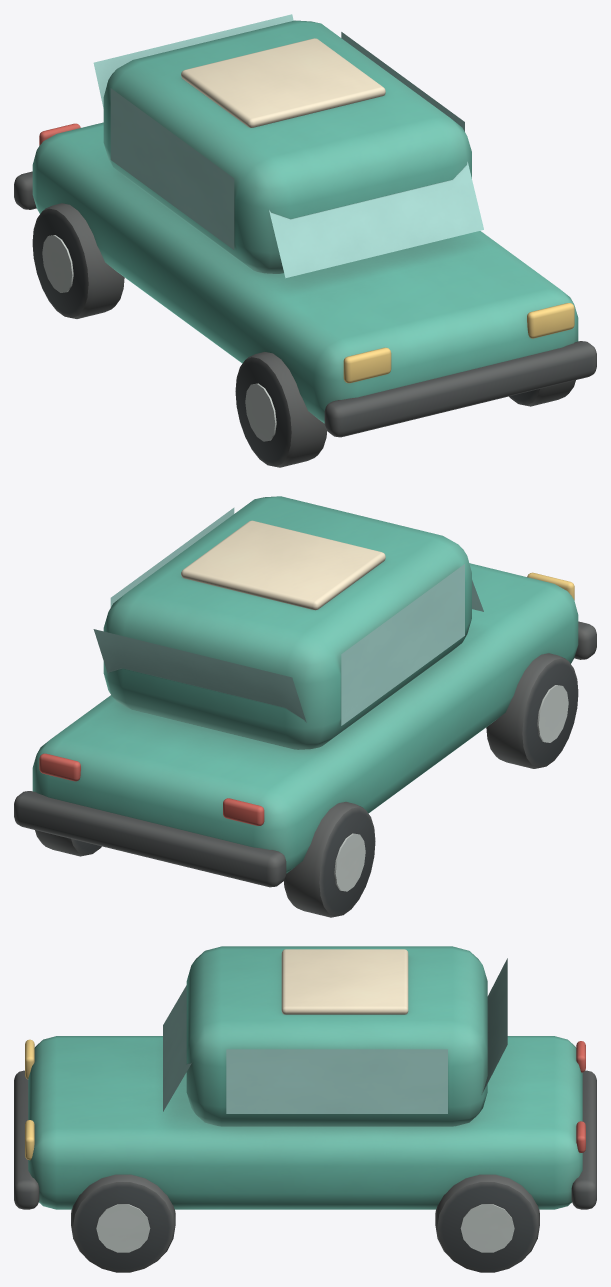
Rendered from TrafficCarTeal.fbx.
The picture shows the model from 3 angles, top to bottom: view 1: azimuth 30°, elevation 25°; view 2: azimuth 150°, elevation 25°; view 3: azimuth 270°, elevation 25°; orthographic projection. The views are drawn at different scales.
Visible parts, largest first — view 1: TrafficCarTeal; view 2: TrafficCarTeal; view 3: TrafficCarTeal.
Boxes of the visible parts, x1,y1,x2,y2 form: TrafficCarTeal: [14, 14, 596, 467]; TrafficCarTeal: [14, 496, 596, 917]; TrafficCarTeal: [14, 946, 596, 1272].
Bounding box in the file's own units: 192 × 163 × 368.
